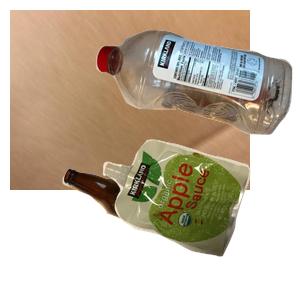cardboard: (10, 10, 250, 190)
glass: (60, 166, 241, 300)
plastic: (93, 27, 300, 154)
trash: (100, 137, 300, 300)
